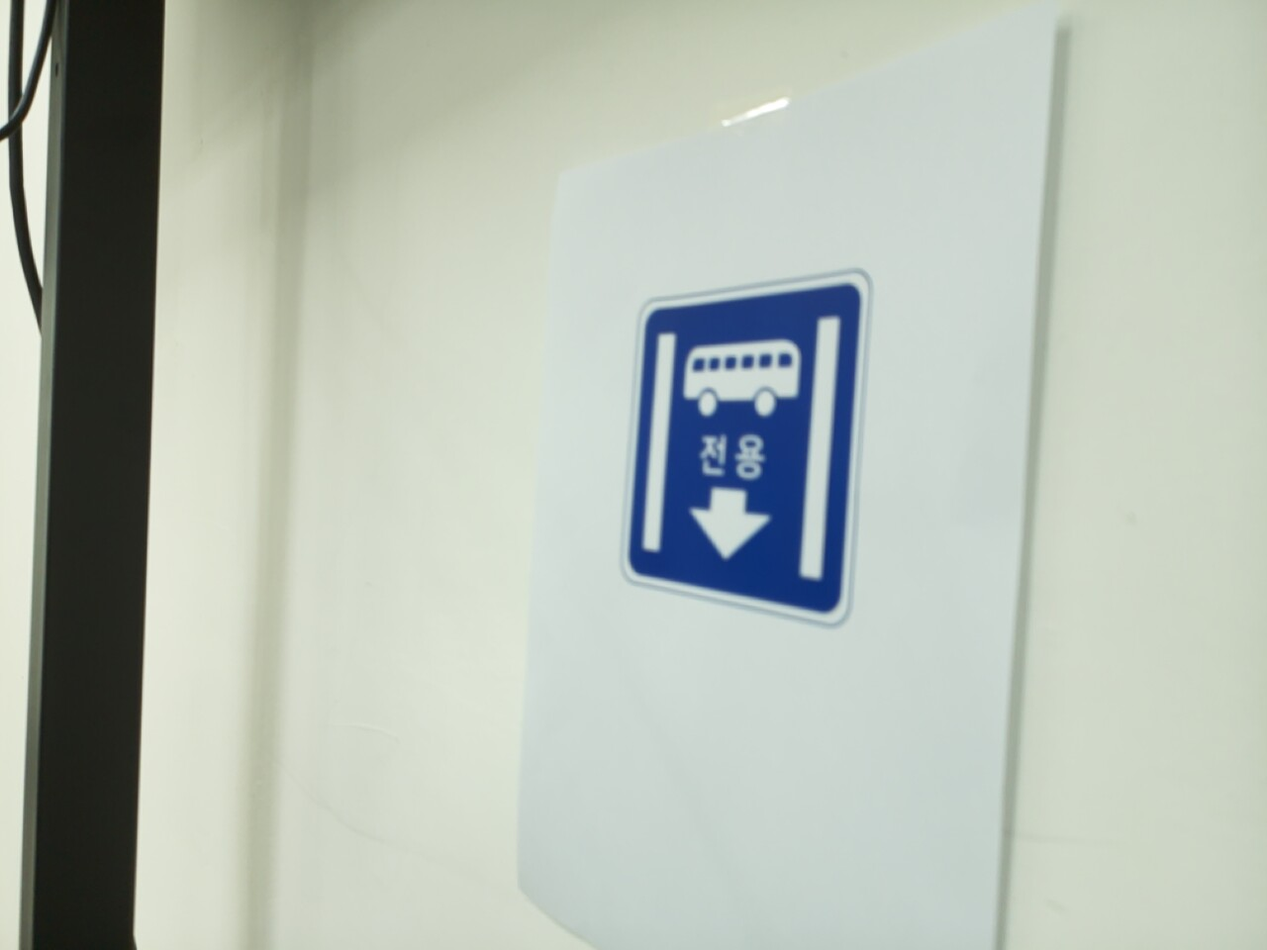bus_only_lane: (621, 273, 869, 622)
